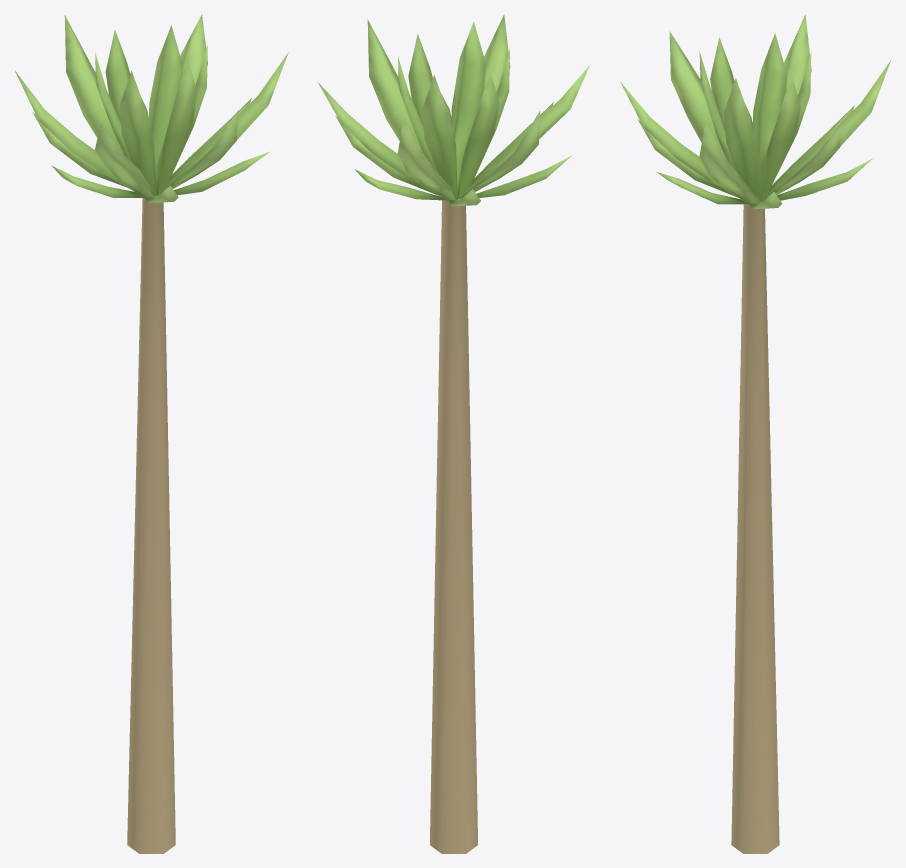
3 views of the same model, side by side, from view 1: azimuth 30°, elevation 25°; view 2: azimuth 150°, elevation 25°; view 3: azimuth 270°, elevation 25° (orthographic).
Visible parts, largest first — view 1: Palm2.002; view 2: Palm2.002; view 3: Palm2.002.
Boxes of the visible parts, bbox=[...] form: Palm2.002: bbox=[15, 14, 288, 853]; Palm2.002: bbox=[318, 14, 590, 853]; Palm2.002: bbox=[620, 14, 890, 853].
Bounding box in the file's own units: 5.83 × 20.02 × 6.19.
1 material, 1 textured.
